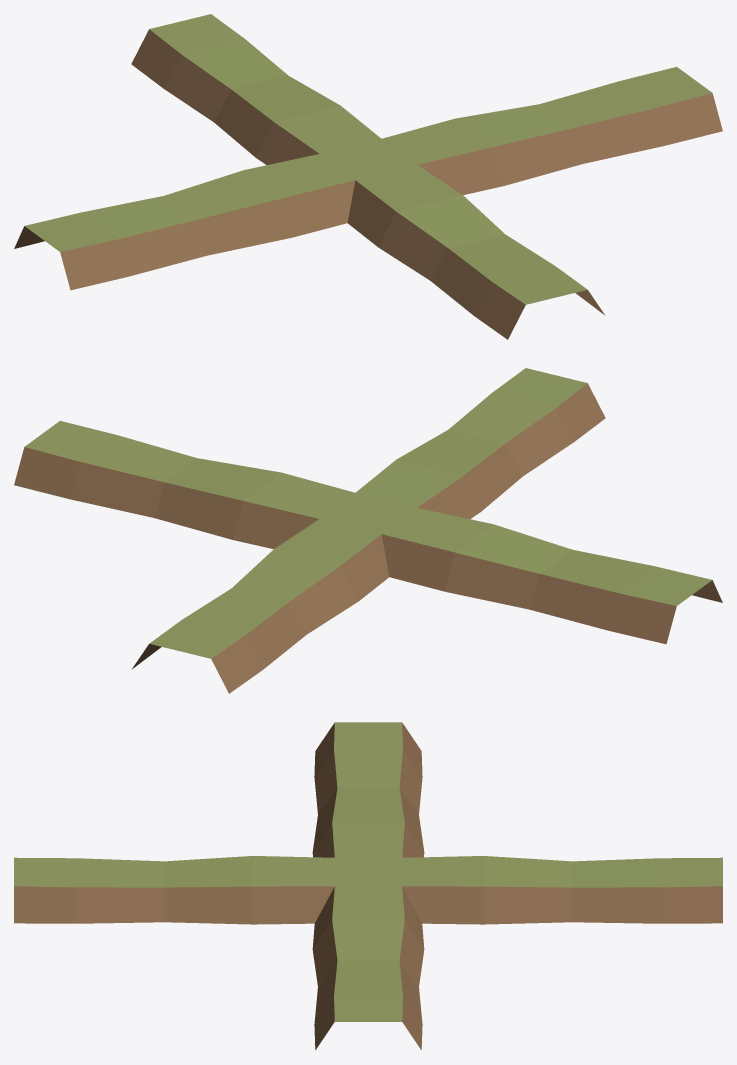
The model's file is Varambu_Cross.glb.
3 views of the same model, one above another, from view 1: azimuth 30°, elevation 25°; view 2: azimuth 150°, elevation 25°; view 3: azimuth 270°, elevation 25° (orthographic). The views are drawn at different scales.
Parts seen in each view (by area): view 1: Varambu_Cross; view 2: Varambu_Cross; view 3: Varambu_Cross.
Part boxes in pixels (x1,y1,x2,y2): Varambu_Cross: (14, 14, 722, 339); Varambu_Cross: (14, 368, 722, 693); Varambu_Cross: (14, 722, 722, 1050).
Size of the model in its own units: 4 by 0.185 by 4.
